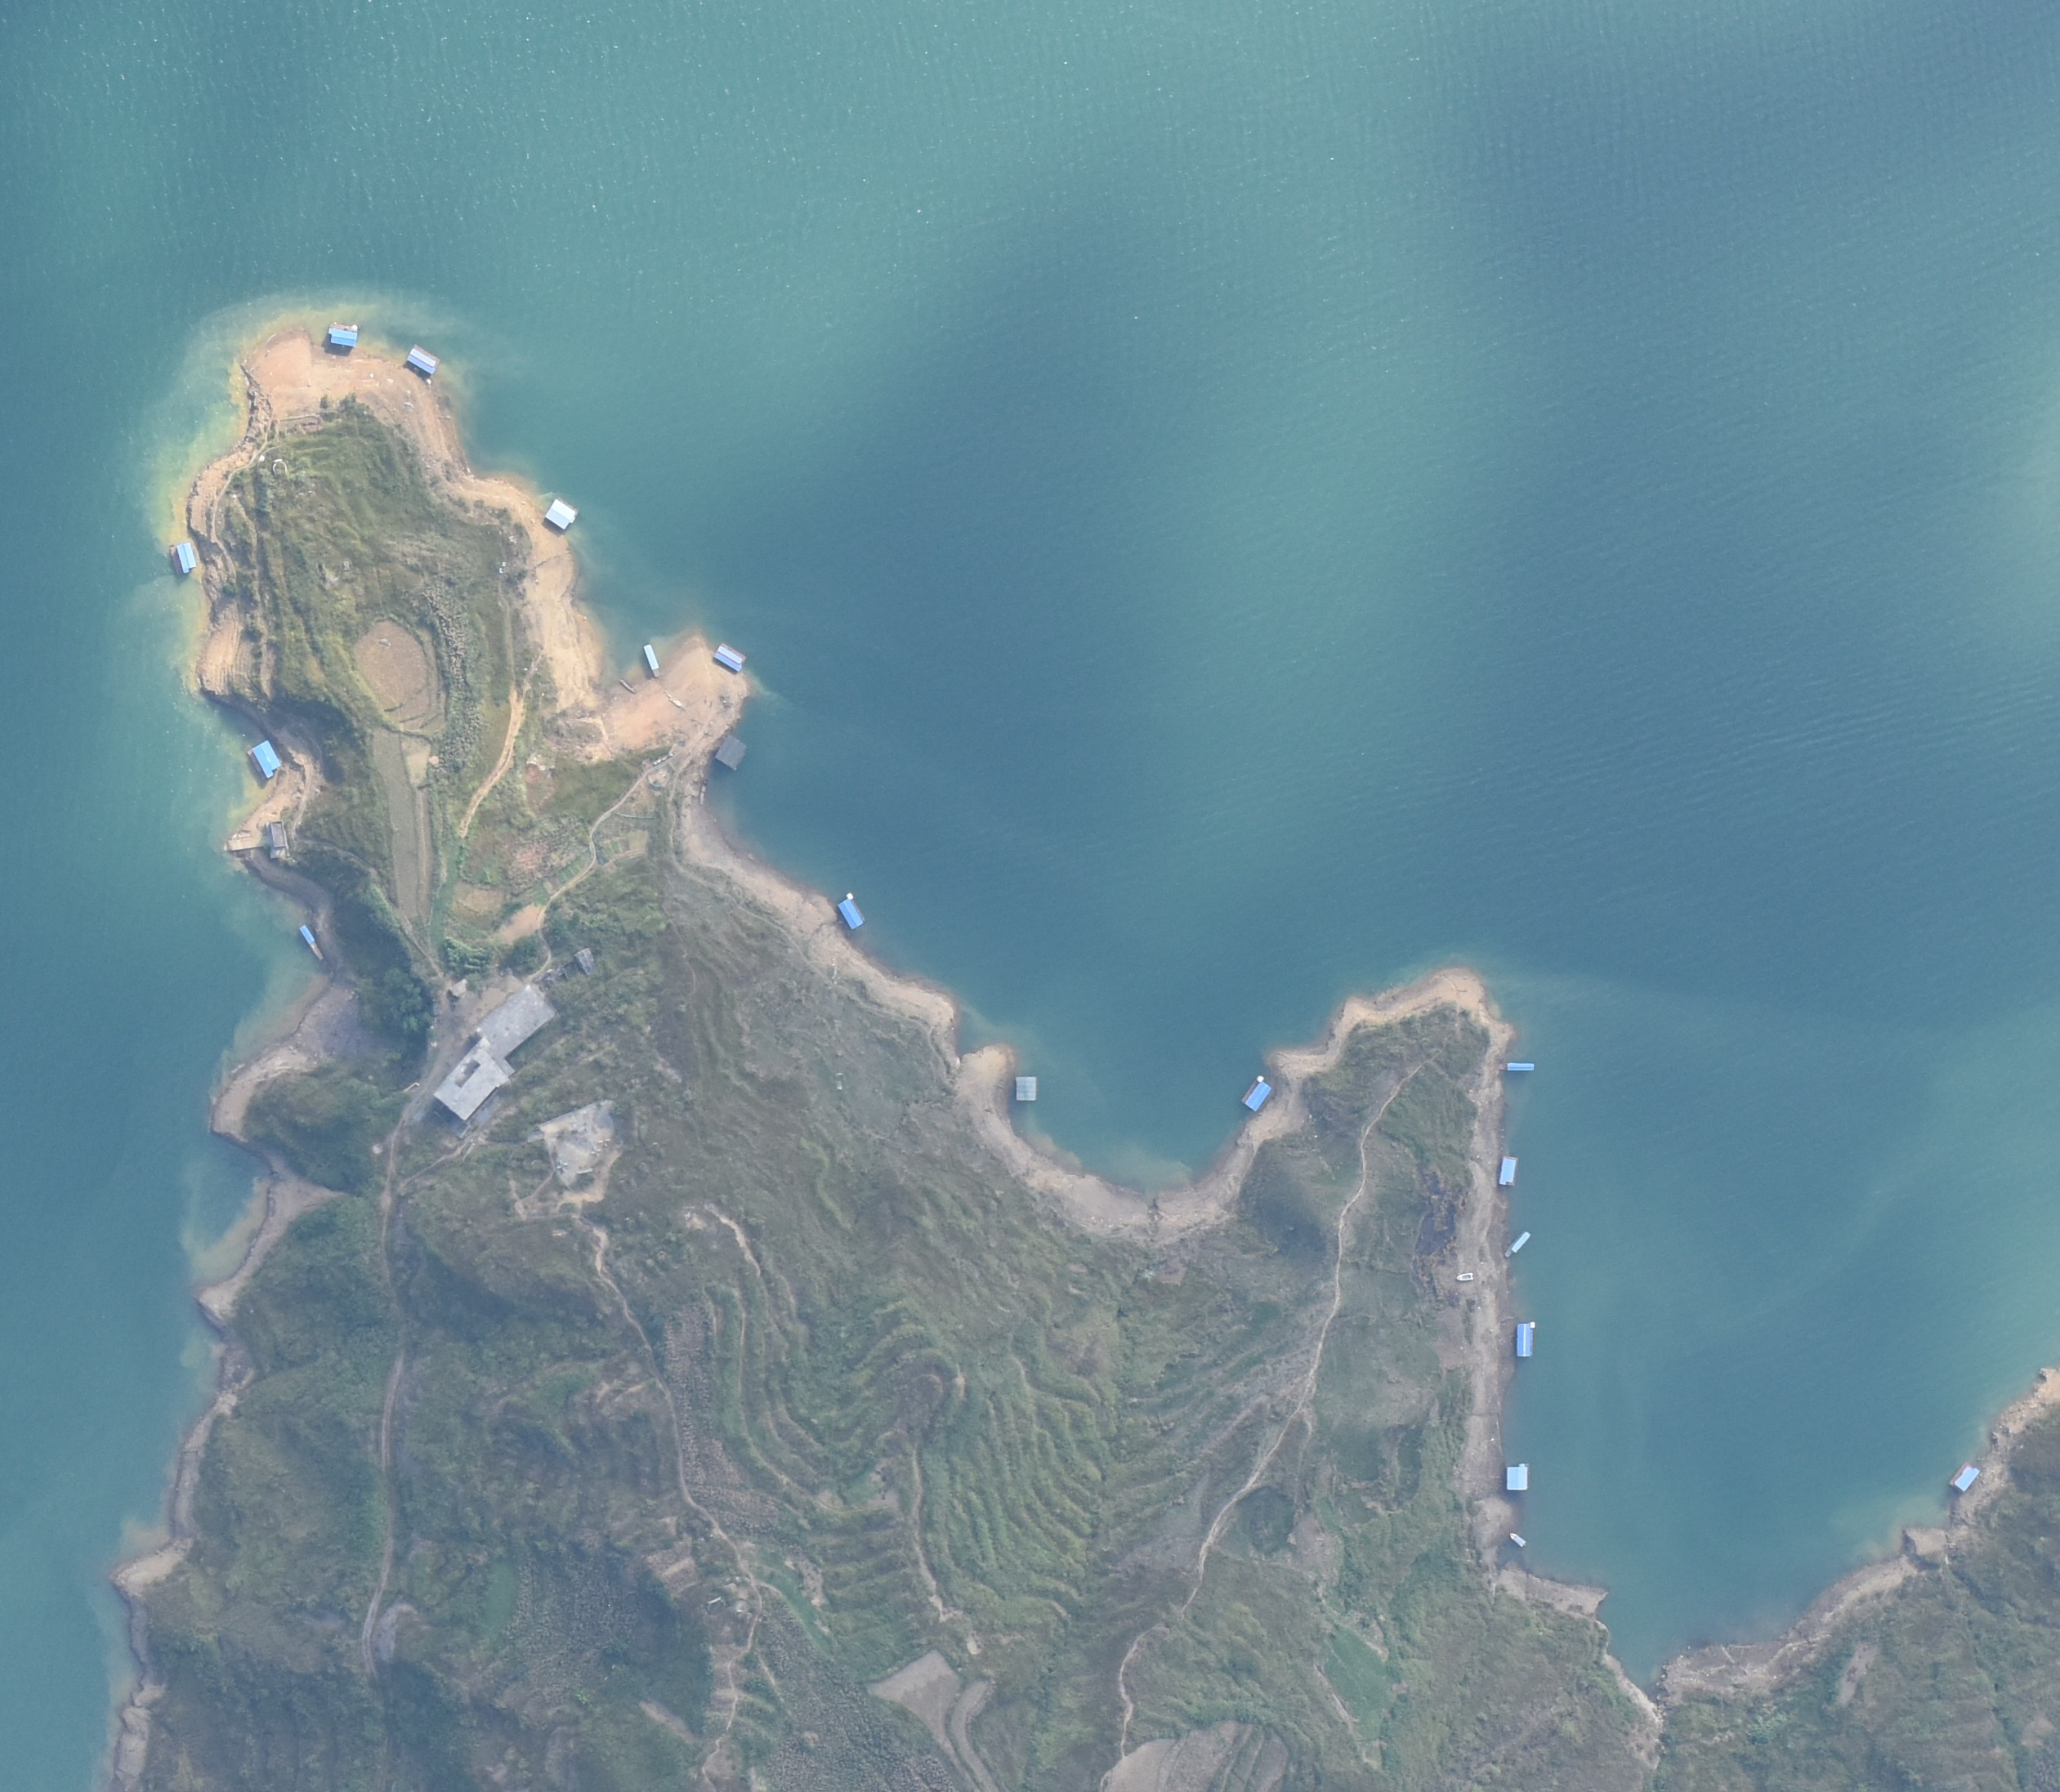building: (434, 1039, 511, 1118), (473, 986, 559, 1053), (268, 822, 286, 853), (578, 948, 597, 976), (448, 977, 468, 995)
prefabricated-house: (715, 734, 748, 773), (547, 494, 578, 529), (249, 741, 277, 778), (408, 345, 440, 377), (713, 643, 744, 673), (837, 895, 865, 928), (1240, 1079, 1270, 1109), (1950, 1464, 1979, 1494), (170, 543, 196, 576), (1513, 1323, 1536, 1358), (328, 324, 357, 349), (1496, 1156, 1517, 1189), (1014, 1076, 1037, 1102), (1506, 1464, 1527, 1492)
ship: (300, 925, 322, 962), (1505, 1230, 1529, 1258), (641, 643, 660, 678), (1498, 1062, 1533, 1072), (1510, 1531, 1527, 1547), (1457, 1273, 1473, 1282)
